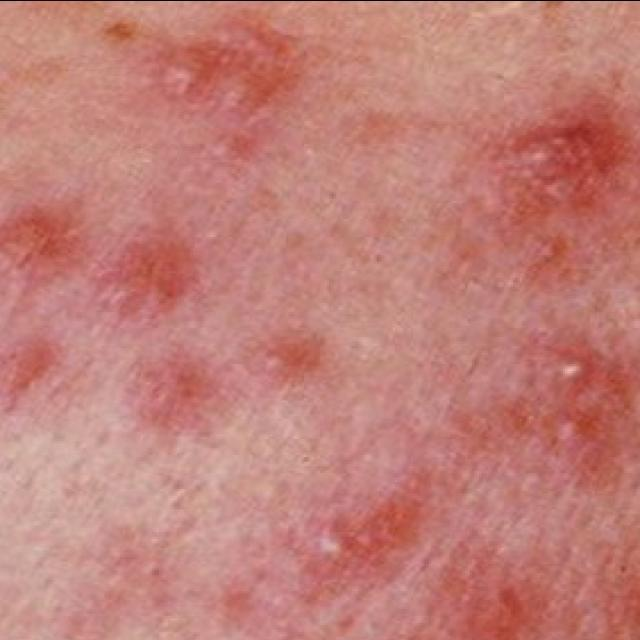acne: (474, 61, 640, 272), (488, 304, 638, 515), (125, 10, 311, 150), (275, 463, 429, 595), (84, 186, 211, 326), (106, 342, 234, 442), (0, 329, 64, 459), (250, 308, 340, 399), (0, 188, 66, 308)
